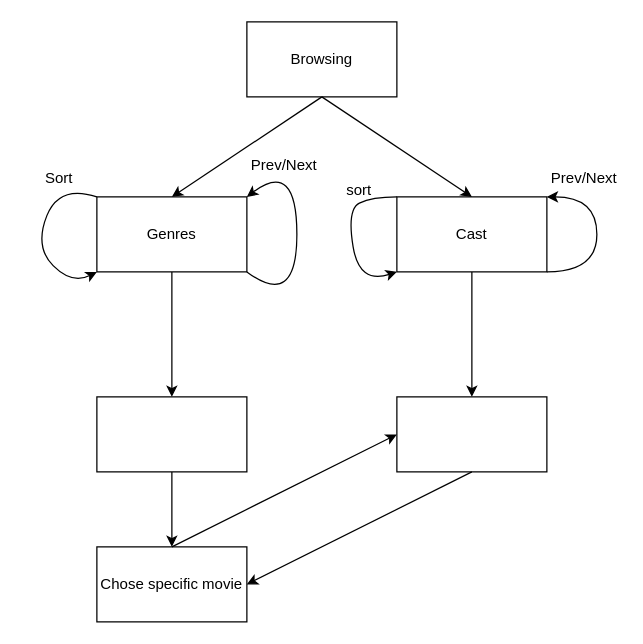
Some shapes in this 643 by 644 pixel diagram are drawn without their labels. Here are the shapes that lost their labels. From the top down, the box of each, then its label:
(96, 396, 247, 472): Chose specific genre
(396, 396, 547, 472): Chose specific celebrity
